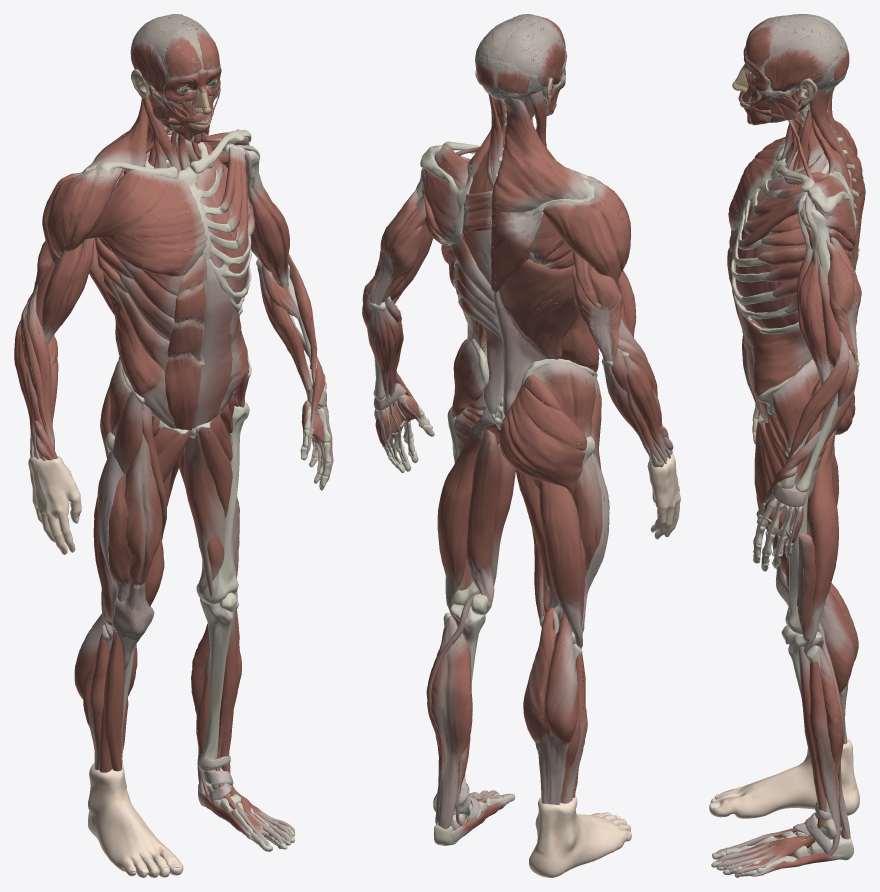
Rendered from male.gltf.
3 views of the same model, side by side, from view 1: azimuth 30°, elevation 25°; view 2: azimuth 150°, elevation 25°; view 3: azimuth 270°, elevation 25° (orthographic).
Visible parts, largest first — view 1: Object_4, Object_5, Object_6, Object_9, Object_11, Object_7; view 2: Object_4, Object_5, Object_6, Object_9, Object_11, Object_7; view 3: Object_5, Object_4, Object_6, Object_9, Object_11, Object_7.
Boxes of the visible parts, <box> form: Object_4: <box>20,14,321,838</box>; Object_5: <box>14,16,323,866</box>; Object_6: <box>21,15,333,848</box>; Object_9: <box>21,123,331,851</box>; Object_11: <box>28,456,183,877</box>; Object_7: <box>20,16,322,845</box>; Object_4: <box>362,14,663,815</box>; Object_5: <box>362,14,673,842</box>; Object_6: <box>362,15,672,836</box>; Object_9: <box>366,100,671,845</box>; Object_11: <box>529,452,680,877</box>; Object_7: <box>362,15,660,820</box>; Object_5: <box>716,17,865,876</box>; Object_4: <box>725,14,865,870</box>; Object_6: <box>716,15,865,875</box>; Object_9: <box>711,95,859,877</box>; Object_11: <box>709,404,859,818</box>; Object_7: <box>734,14,861,859</box>.
Size of the model in its own units: 0.0101 by 0.0269 by 0.00466.
